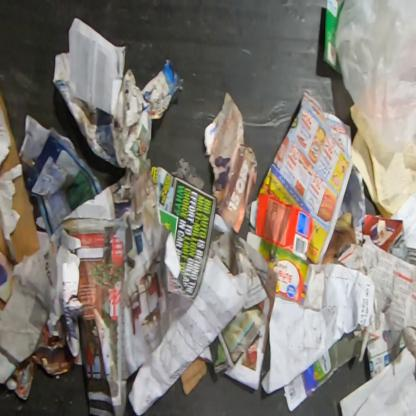cardboard: (0, 92, 42, 267), (180, 355, 208, 396)
soft_plastic: (335, 0, 415, 160)
